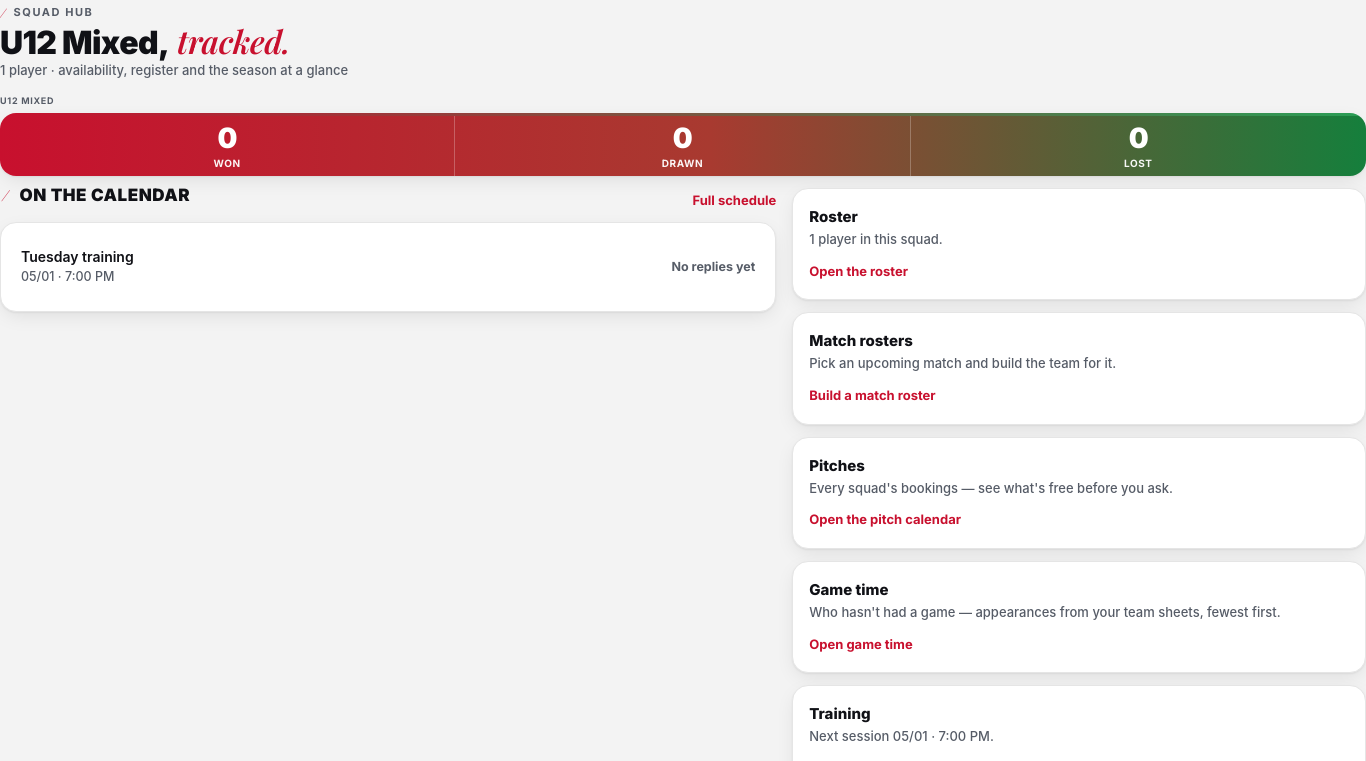
Test: Squad Hub event sheet — Edit, Duplicate and Delete › offers Edit and Duplicate to a coach, and does not offer Delete
Click the button "Tuesday training 05/01 · 7:00 PM No replies yet". click: click(77, 256)
box: [17,239,759,295]
(page scrolled)
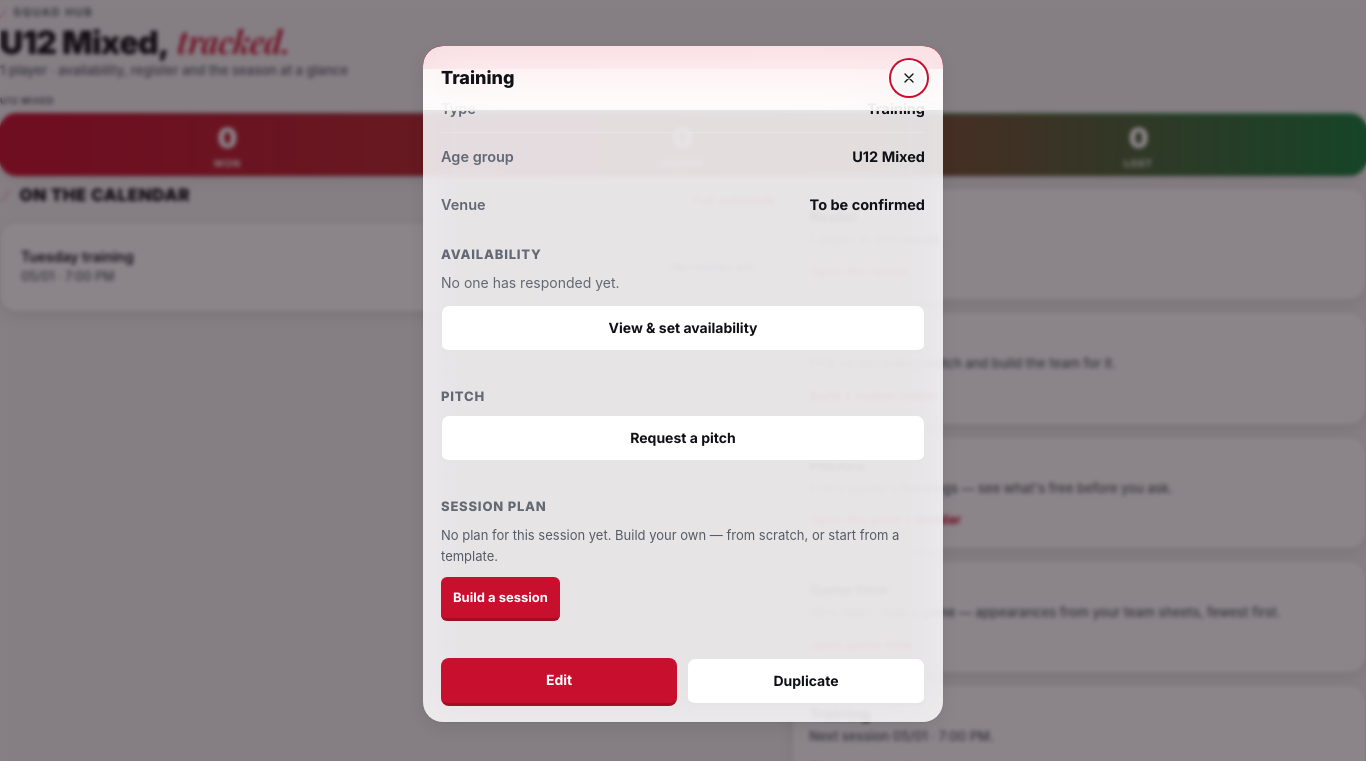
Now the button "Edit" is shown, box [441,658,677,706]
Now the button "Duplicate" is shown, box [687,658,925,706]
